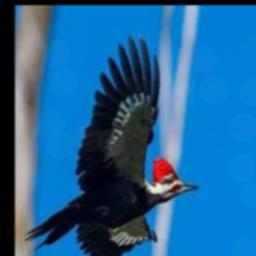Woodpecker: (24, 33, 197, 256)
